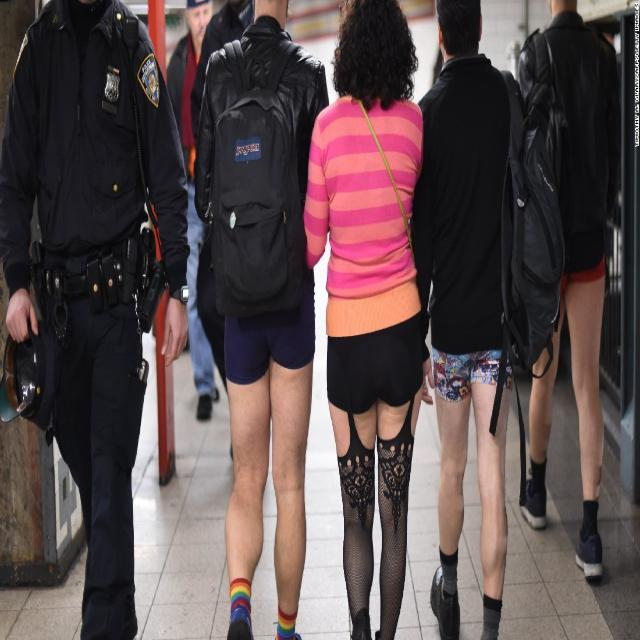body: (0, 0, 192, 639), (192, 0, 331, 640), (298, 0, 428, 639), (413, 0, 525, 639), (512, 0, 626, 585), (188, 0, 299, 474), (164, 0, 221, 426)
